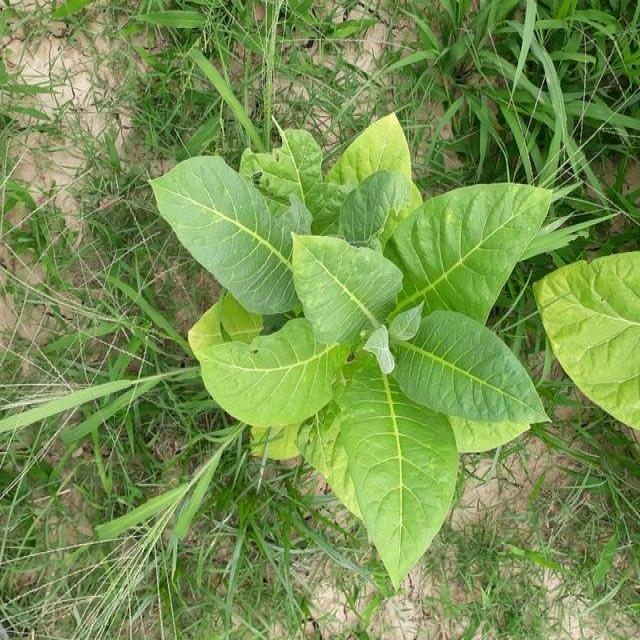crop: (146, 122, 554, 554), (539, 247, 640, 429)
